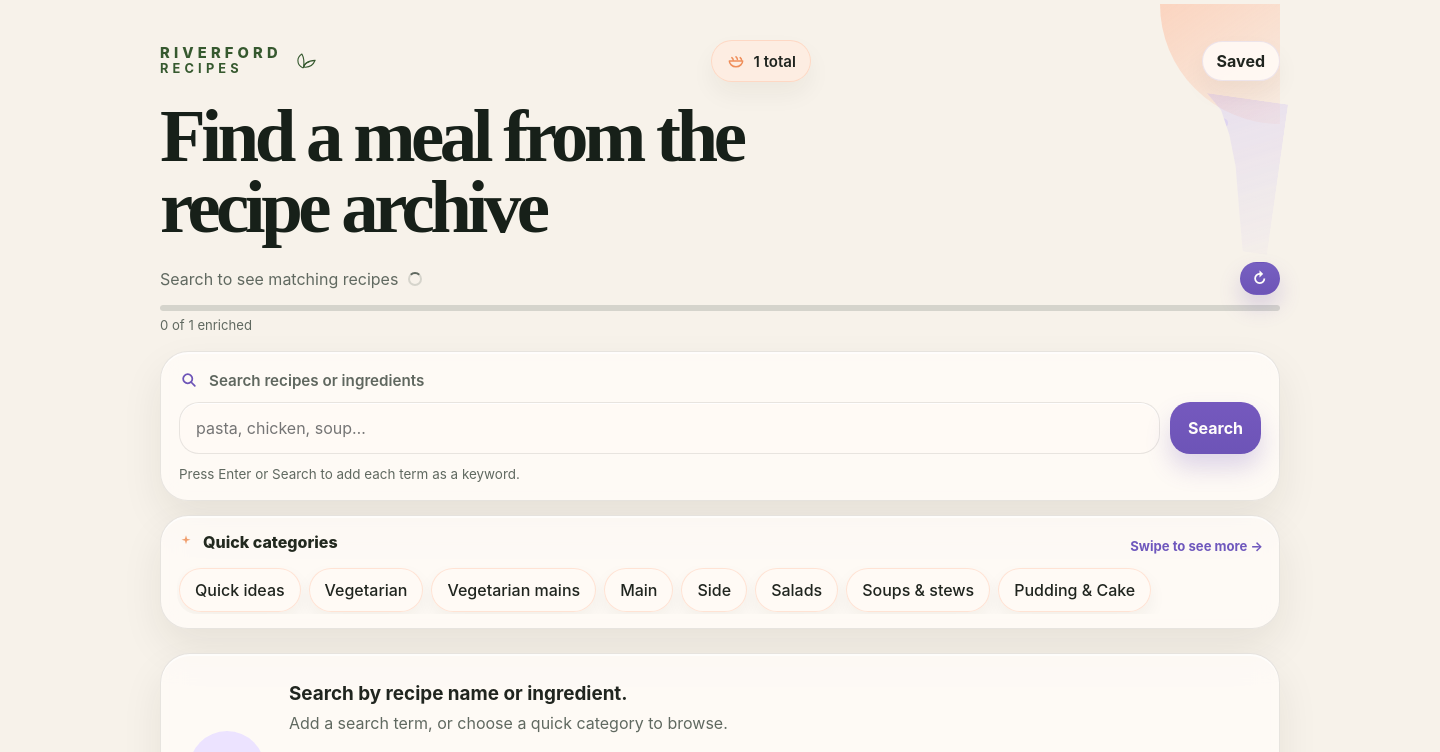
it: App › uses user-friendly loading text for recipes without details yet
Type "aglio" into the field labelled "Search" at (670, 428), box [179,402,1160,454]
Then press Enter
(page scrolled)
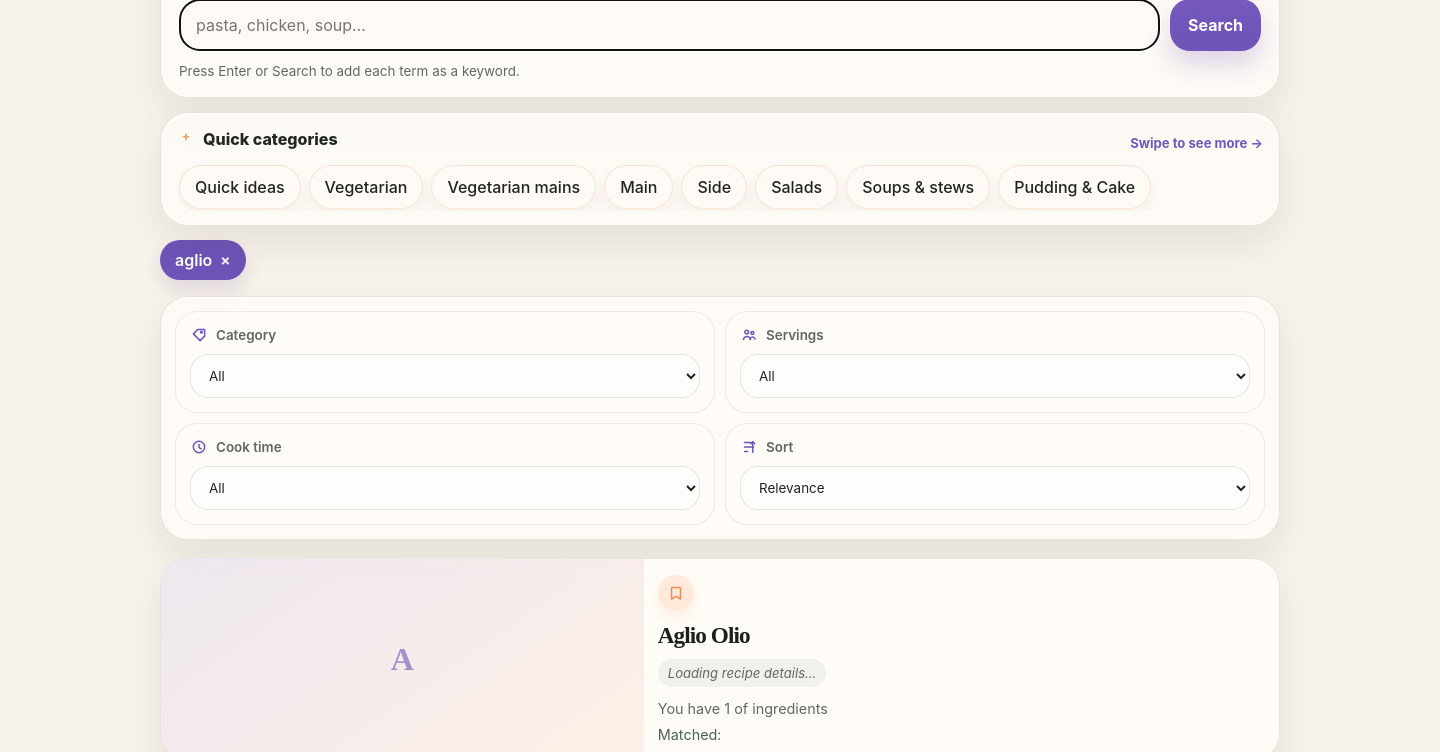
Now the text "Loading recipe details…" is shown, box [658,660,826,688]
